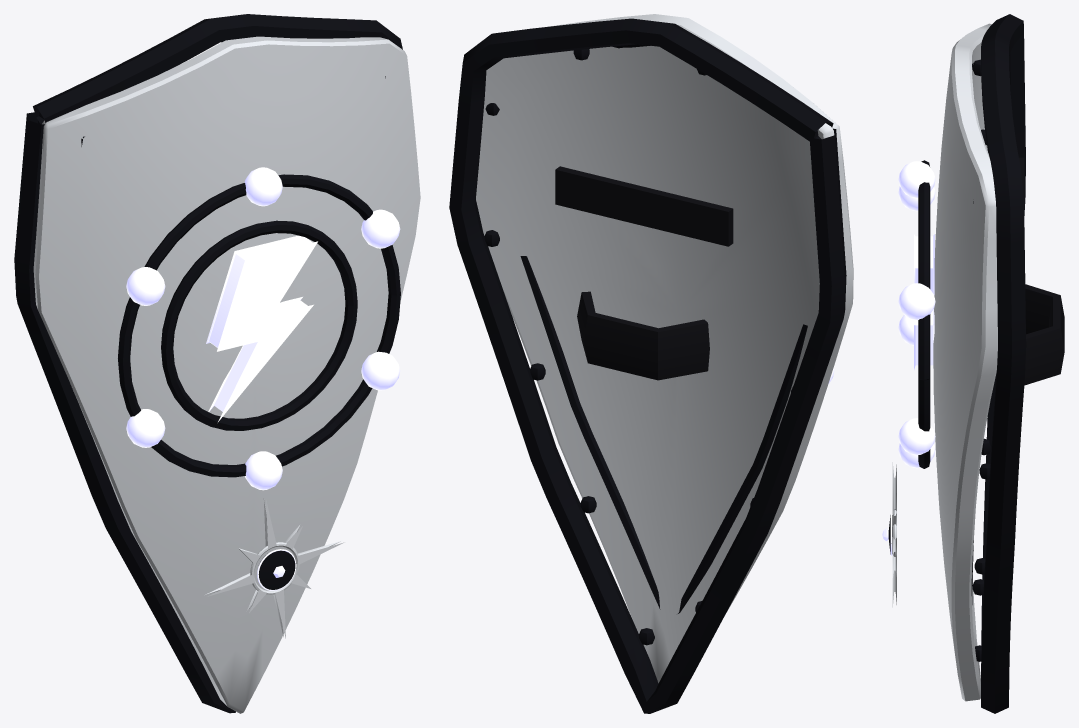
Rendered from esc_oblivion_warden_shield.glb.
3 renders of one model, left to right at view 1: azimuth 30°, elevation 25°; view 2: azimuth 150°, elevation 25°; view 3: azimuth 270°, elevation 25°, orthographic. The views are drawn at different scales.
Parts seen in each view (by area): view 1: esc_oblivion_warden_shield; view 2: esc_oblivion_warden_shield; view 3: esc_oblivion_warden_shield.
Part boxes in pixels (<box>): esc_oblivion_warden_shield: <box>14,14,420,713</box>; esc_oblivion_warden_shield: <box>449,14,853,713</box>; esc_oblivion_warden_shield: <box>882,14,1064,713</box>.
Bounding box in the file's own units: 0.5917 × 0.997 × 0.2478.
